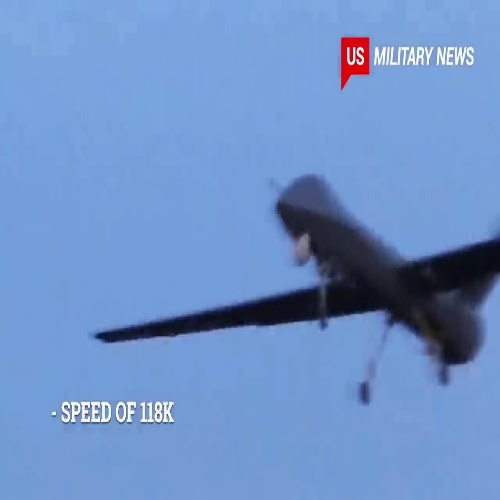uav294: (91, 173, 500, 407)
